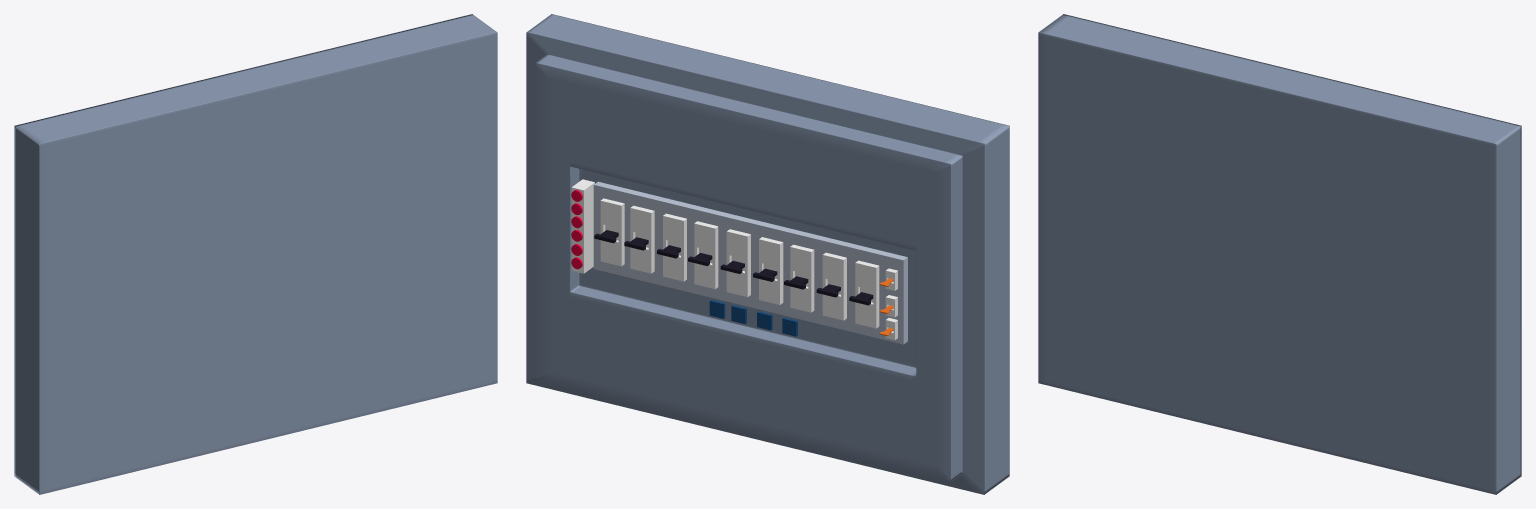
The model's file is Fuze Box.glb.
3 views of the same model, side by side, from view 1: azimuth 30°, elevation 25°; view 2: azimuth 150°, elevation 25°; view 3: azimuth 330°, elevation 25° (orthographic).
Parts seen in each view (by area): view 1: PoweBox Casing; view 2: PoweBox Casing, Switch Housing, Switch Housing.001, Cube.008, Cube.018, Cube.016, Cube.002, Cube.004, Cube.012, Cube.014, Cube.010, Cube.006; view 3: PoweBox Casing.
Boxes of the visible parts, x1,y1,x2,y2 form: PoweBox Casing: (14, 14, 497, 494); PoweBox Casing: (526, 14, 1009, 494); Switch Housing: (593, 181, 907, 344); Switch Housing.001: (571, 179, 594, 273); Cube.008: (694, 221, 718, 288); Cube.018: (855, 260, 879, 328); Cube.016: (822, 252, 846, 320); Cube.002: (600, 198, 624, 266); Cube.004: (630, 205, 654, 273); Cube.012: (759, 237, 783, 304); Cube.014: (790, 244, 814, 312); Cube.010: (726, 229, 750, 297); Cube.006: (663, 213, 686, 281); PoweBox Casing: (1038, 14, 1521, 494).
Bounding box in the file's own units: 7.13 × 5.22 × 1.14.
